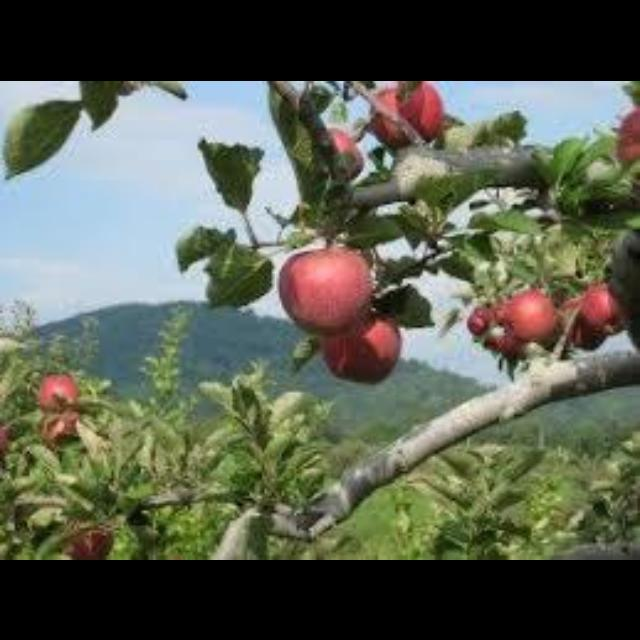apple: (277, 246, 371, 332), (319, 317, 400, 381), (376, 80, 442, 137), (502, 288, 556, 342), (581, 283, 618, 332), (37, 374, 77, 406), (371, 110, 408, 144)
